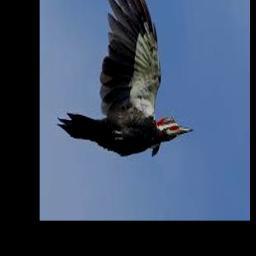Woodpecker: (57, 0, 194, 155)
